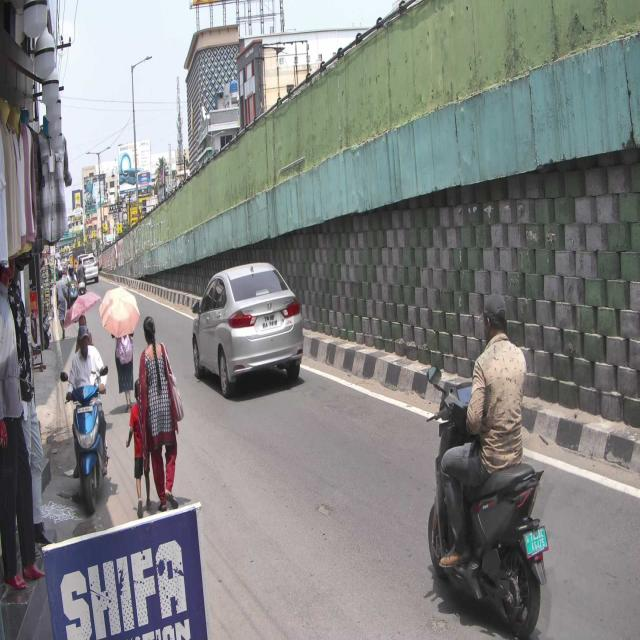single_rider: (426, 290, 550, 640), (66, 323, 110, 512)
